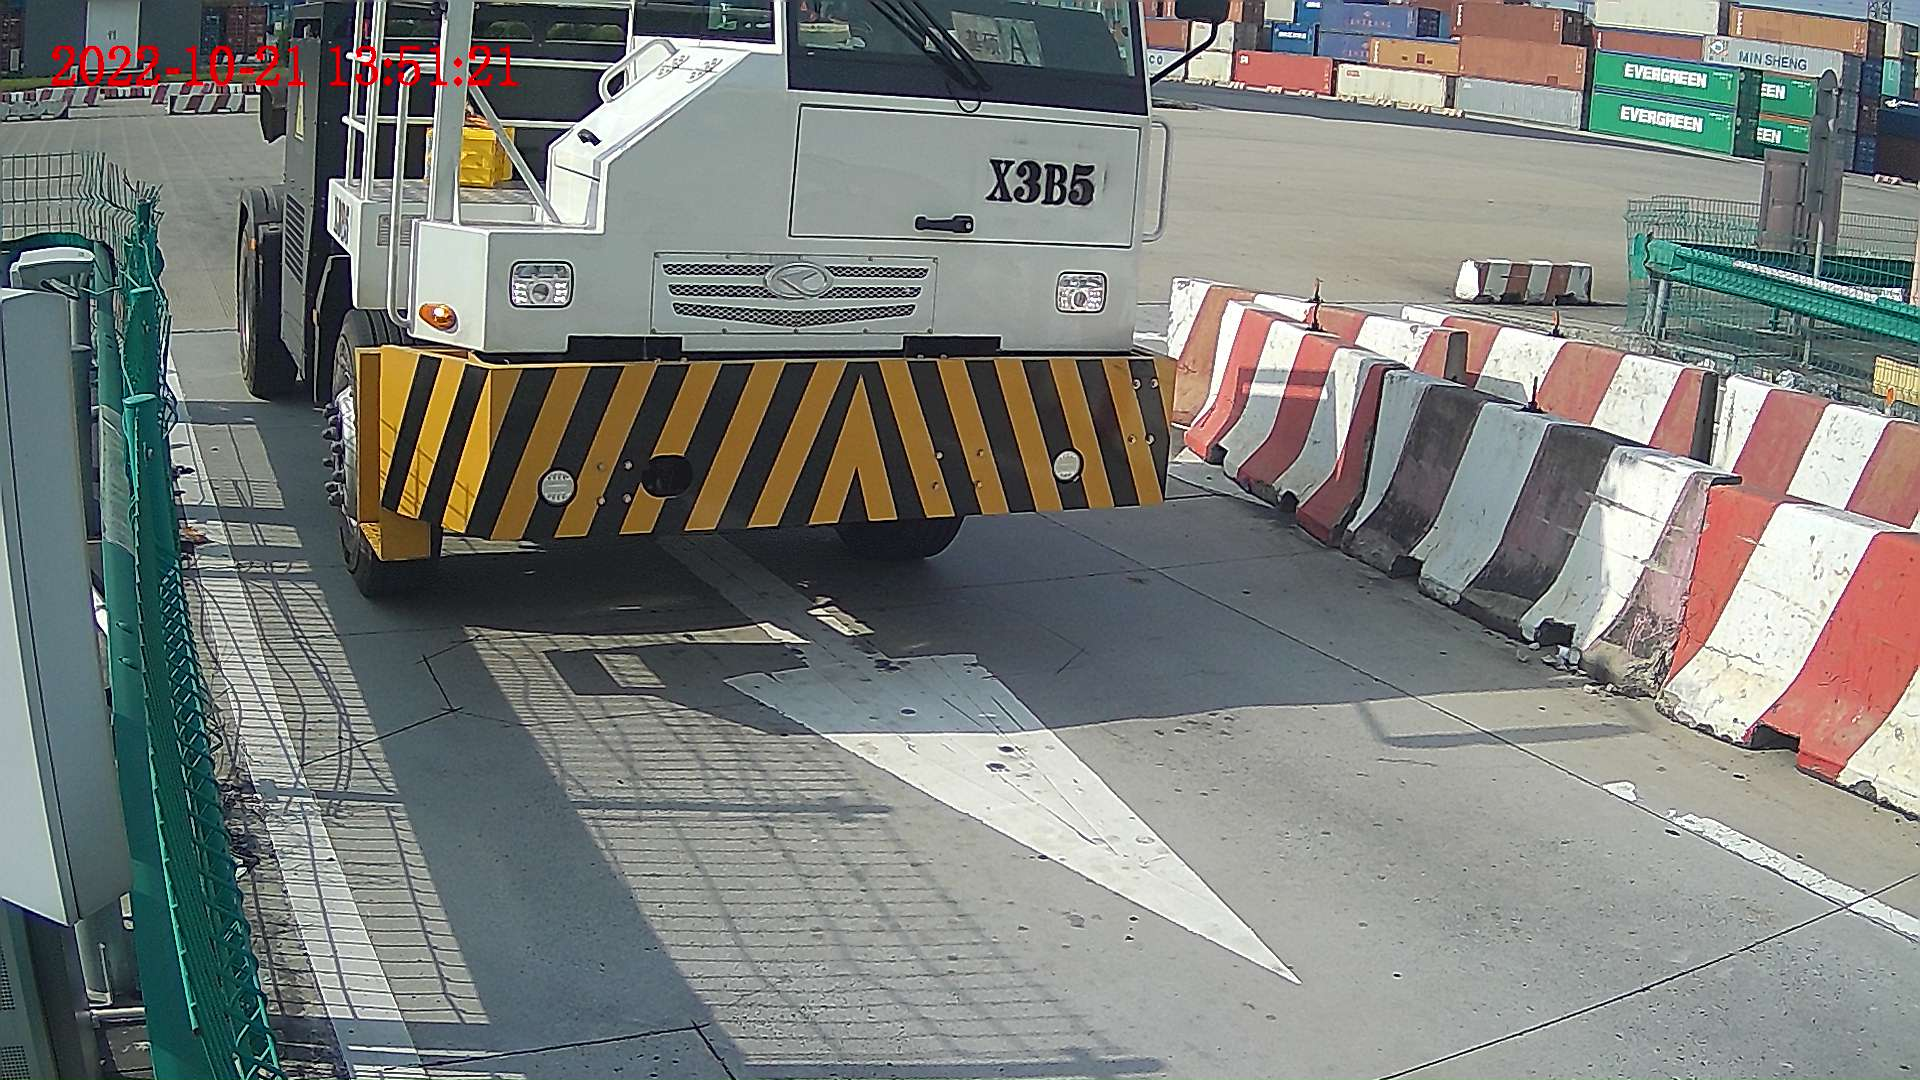head: (307, 1, 1174, 589)
